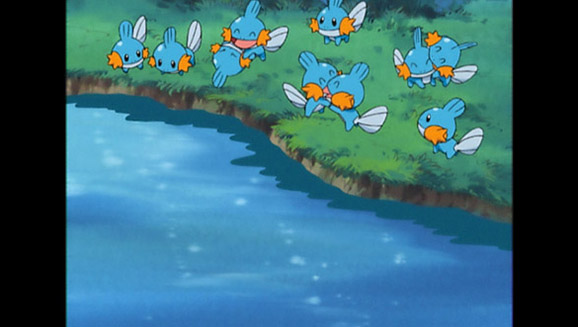mudkip: (327, 56, 389, 141), (416, 97, 482, 160), (287, 45, 343, 119), (221, 1, 288, 62), (427, 25, 482, 88), (148, 21, 205, 78), (105, 13, 151, 79), (211, 41, 268, 90), (396, 24, 434, 88), (311, 1, 362, 46)
